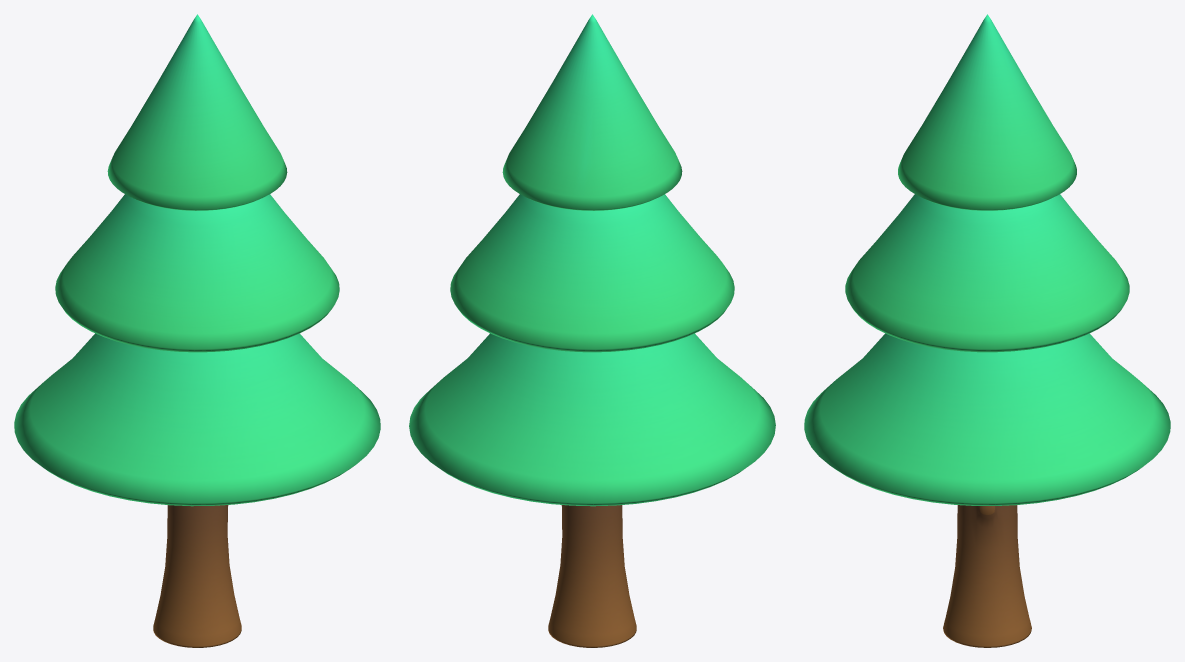
Rendered from tree.fbx.
The picture shows the model from 3 angles, left to right: view 1: azimuth 30°, elevation 25°; view 2: azimuth 150°, elevation 25°; view 3: azimuth 270°, elevation 25°; orthographic projection.
Visible parts, largest first — view 1: TreeLeavesBottom, LeavesMid, LeavesBot, Tree; view 2: TreeLeavesBottom, LeavesMid, LeavesBot, Tree; view 3: TreeLeavesBottom, LeavesMid, LeavesBot, Tree.
Boxes of the visible parts, x1,y1,x2,y2 form: TreeLeavesBottom: (14,333,380,506); LeavesMid: (55,194,339,352); LeavesBot: (107,14,287,210); Tree: (153,505,241,647); TreeLeavesBottom: (409,333,775,506); LeavesMid: (450,194,734,352); LeavesBot: (502,14,682,210); Tree: (548,505,636,647); TreeLeavesBottom: (804,333,1170,505); LeavesMid: (845,194,1129,352); LeavesBot: (898,14,1076,210); Tree: (943,505,1031,647).
Size of the model in its own units: 236 by 438 by 236.
